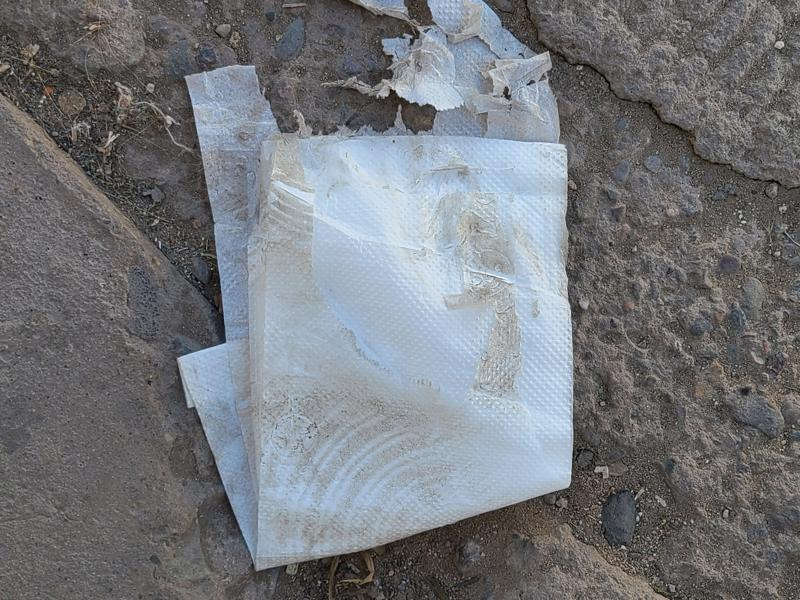papel: (175, 0, 574, 573)
